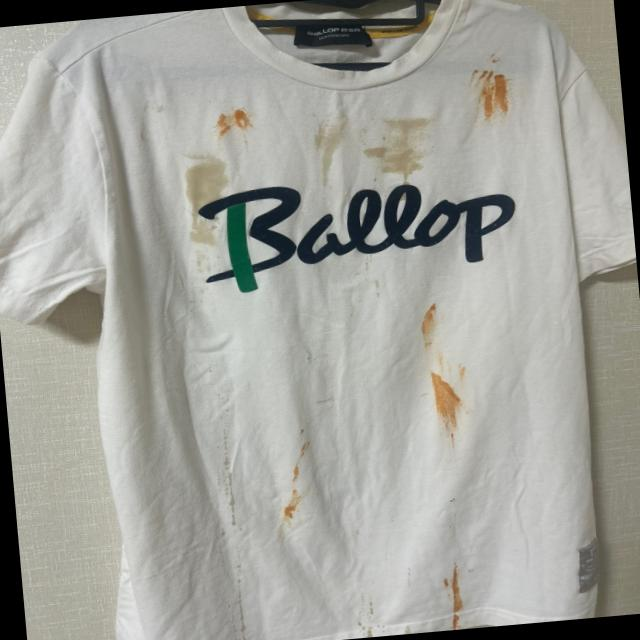stain: (422, 347, 484, 453), (173, 148, 229, 252), (366, 112, 428, 182), (462, 57, 524, 124), (279, 428, 315, 519), (212, 432, 244, 534), (434, 562, 473, 631), (223, 561, 254, 640), (304, 125, 349, 177), (211, 100, 262, 140), (414, 296, 447, 348), (359, 252, 386, 302), (353, 592, 375, 638), (445, 492, 463, 510)
